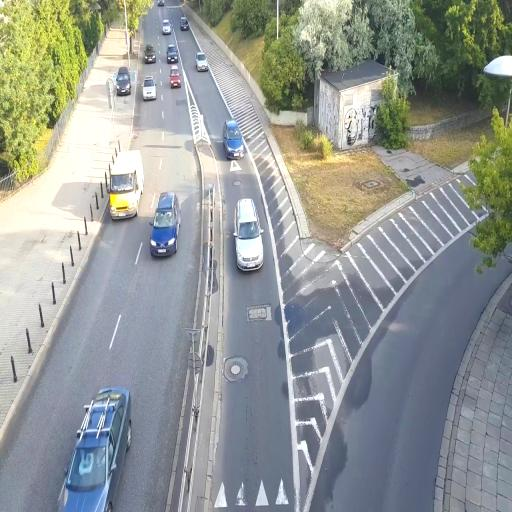vehicle: (58, 385, 133, 511), (108, 150, 144, 220), (234, 197, 264, 273), (149, 190, 181, 257), (114, 67, 132, 96), (142, 77, 157, 101), (195, 52, 210, 72), (166, 43, 179, 64), (170, 69, 182, 89), (143, 46, 156, 64)
